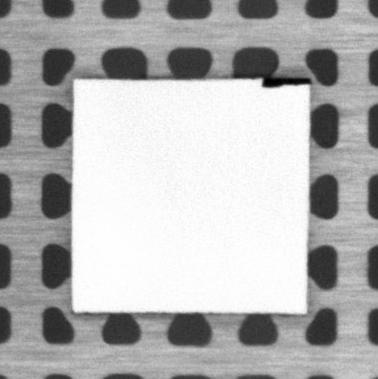DIE_BROKEN: (259, 75, 313, 88)
